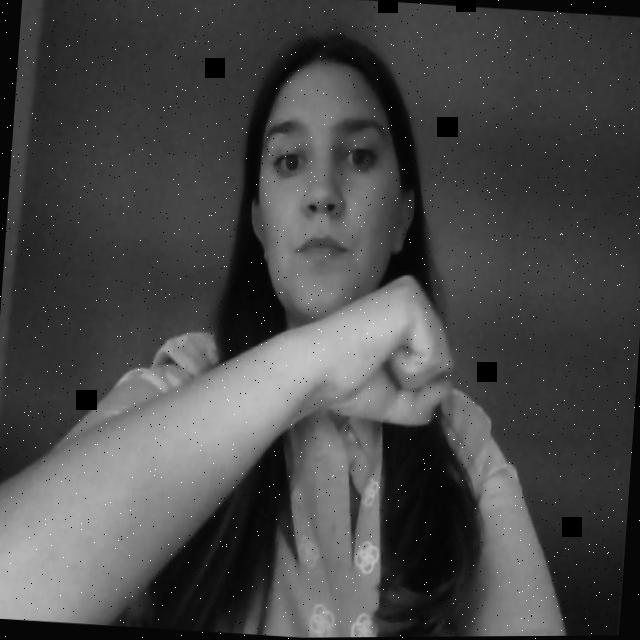Rock: (298, 271, 462, 450)
